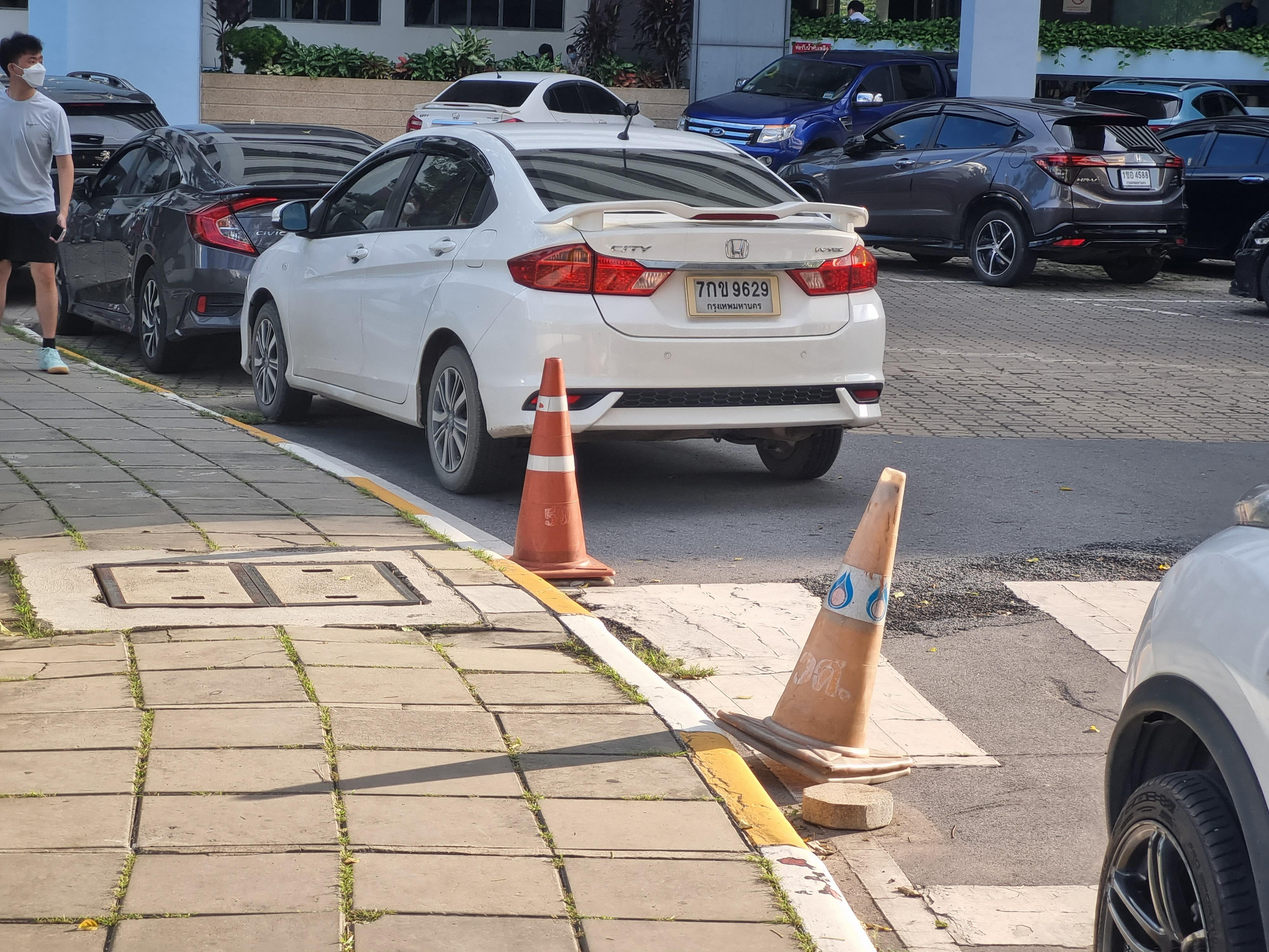license-plate: (679, 263, 784, 327), (1116, 167, 1157, 193)
